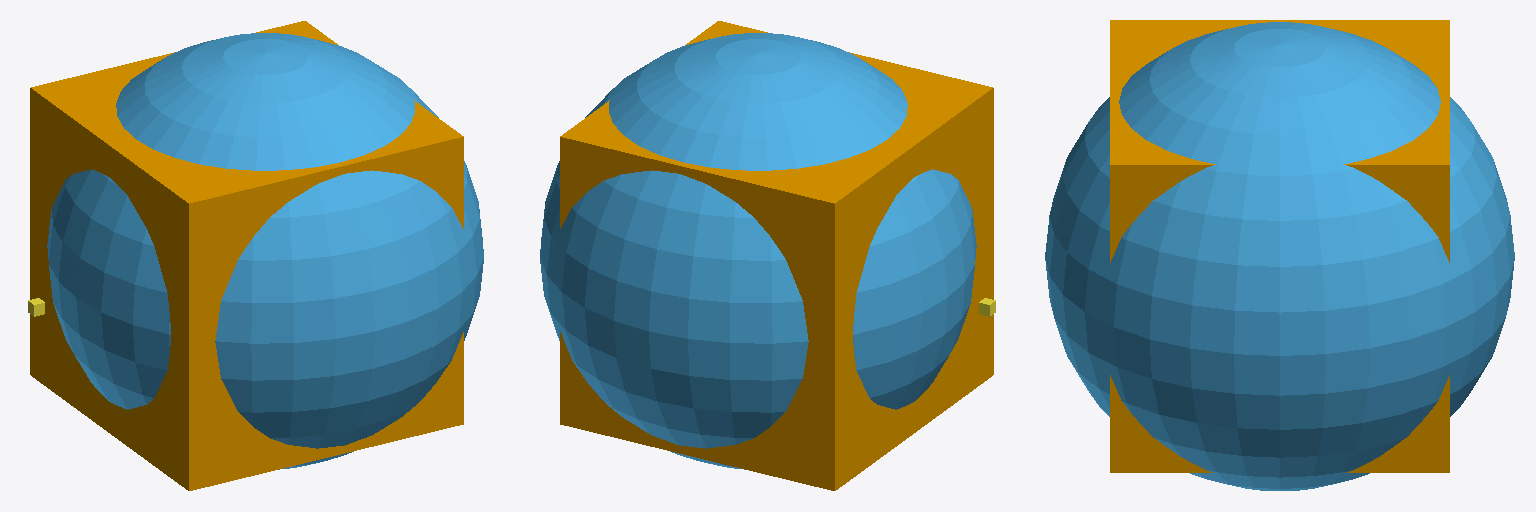
URDF robot description (NIFTi):
<?xml version="1.0" ?>
<robot name="NIFTi">
    <link name="base_link">
        <visual>
            <origin rpy="0 0 0" xyz="-0.1220 0 0"/>
            <geometry><box size="1.8 1.8 1.8"/></geometry>
        </visual>
        <collision>
            <origin rpy="0 0 0" xyz="-0.1220 0 0"/>
            <geometry><box size="1.8 1.8 1.8"/></geometry>
        </collision>
        <collision name="big_collision_box">
            <origin rpy="0 0 0" xyz="-0.1 0 0"/>
            <!--geometry><box size="2.2545 2.2545 2.2545"/></geometry-->
            <geometry><mesh filename="package://robot_body_filter/examples/box.dae" scale="2.2545 1.12545 0.7515"/></geometry>
        </collision>
        <inertial>
            <origin rpy="0 0 0" xyz="-0.034 0 0.142"/>
            <mass value="6.0"/>
            <inertia ixx="0.001" ixy="0.0001" ixz="0.0" iyy="0.02" iyz="-0.0001" izz="0.03"/>
        </inertial>
    </link>
    <link name="antenna">
        <visual>
            <origin rpy="0 0 0" xyz="-0.01864 0 0"/>
            <geometry><sphere radius="1.24091" /></geometry>
        </visual>
        <collision>
            <origin rpy="0 0 0" xyz="-0.01864 0 0"/>
            <geometry><sphere radius="1.24091"/></geometry>
        </collision>
        <inertial>
            <origin rpy="0 0 0" xyz="0 0 0"/>
            <mass value="0.5"/>
            <inertia ixx="0.005" ixy="0" ixz="0" iyy="0.001" iyz="-0.0001" izz="0.004"/>
        </inertial>
    </link>
    <joint name="antenna_j" type="fixed">
        <parent link="base_link"/>
        <child link="antenna"/>
        <origin rpy="0 0 0" xyz="0.01864 0 0"/>
    </joint>
    <link name="laser_base">
        <visual>
            <origin rpy="0 0 0" xyz="0 0 0"/>
            <geometry><box size="0.0005 0.0005 0.0005"/></geometry>
        </visual>
        <inertial>
            <origin rpy="0 0 0" xyz="0 0 0"/>
            <mass value="1e-5"/>
            <inertia ixx="1e-3" ixy="1e-6" ixz="1e-6" iyy="1e-3" iyz="1e-6" izz="1e-3"/>
        </inertial>
    </link>
    <joint name="laser_base_j" type="fixed">
        <parent link="base_link"/>
        <child link="laser_base"/>
        <origin rpy="0 0 0" xyz="-1.5 0 0"/>
    </joint>
    <link name="laser">
        <visual>
            <origin rpy="0 0 0" xyz="0 0 0"/>
            <geometry><box size="0.07273 0.07273 0.07273"/></geometry>
        </visual>
        <collision>
            <origin rpy="0 0 0" xyz="0 0 0"/>
            <geometry><box size="0.07273 0.07273 0.07273"/></geometry>
        </collision>
        <inertial>
            <origin rpy="0 0 0" xyz="0 0 0"/>
            <mass value="1"/>
            <inertia ixx="0.003" ixy="0" ixz="0" iyy="0.003" iyz="0" izz="0.002"/>
        </inertial>
    </link>
    <joint name="laser_j" type="revolute">
        <parent link="laser_base"/>
        <child link="laser"/>
        <axis xyz="1 0 0"/>
        <origin rpy="0 0 0" xyz="0 0 0"/>
        <limit effort="0" lower="-2.3561945" upper="2.3561945" velocity="4"/>
    </joint>
</robot>

--- Facts derived from the render (not from the file) ---
The picture shows the robot from 3 angles, left to right: view 1: azimuth 30°, elevation 25°; view 2: azimuth 150°, elevation 25°; view 3: azimuth 270°, elevation 25°; orthographic projection.
Robot: NIFTi — 4 links, 3 joints (1 revolute, 2 fixed); root link base_link; default pose: every joint at zero.
Links seen in each view (by area): view 1: antenna, base_link; view 2: antenna, base_link; view 3: antenna, base_link.
Link boxes in pixels (x1,y1,x2,y2): antenna: (47, 33, 483, 469); base_link: (30, 21, 463, 490); antenna: (540, 33, 976, 469); base_link: (560, 21, 993, 490); antenna: (1045, 22, 1514, 490); base_link: (1110, 20, 1449, 472).
Size in the robot's own frame: 2.78 by 2.48 by 2.48 metres.
Geometry: primitives only (box / cylinder / sphere), no mesh files.